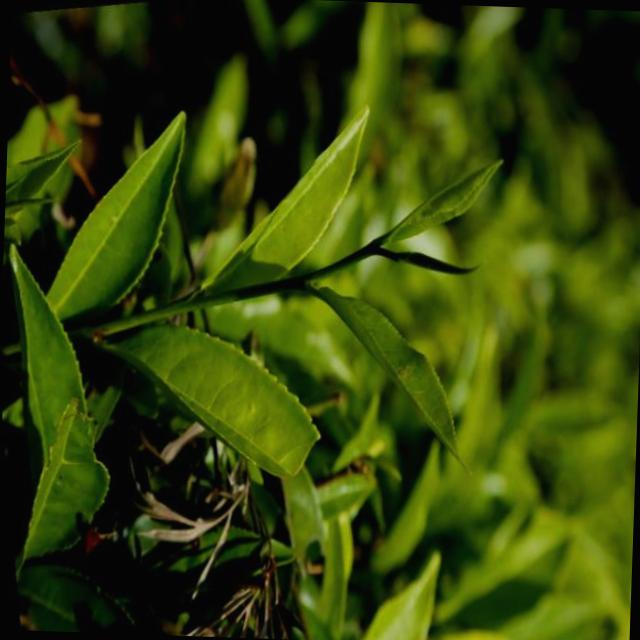Stem: (354, 245, 370, 262)
